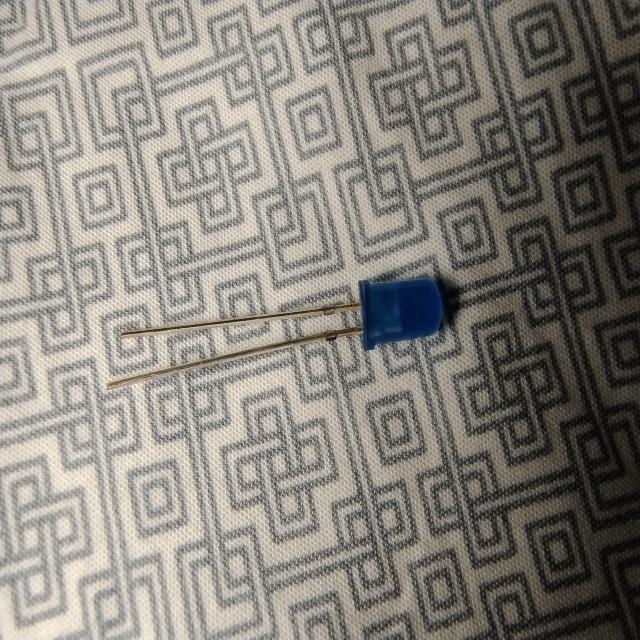blue_led: (358, 276, 444, 352)
